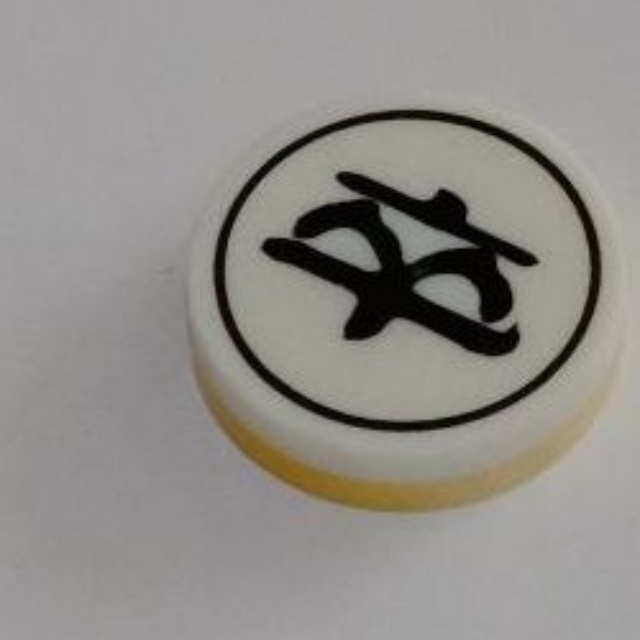black_chot: (175, 84, 640, 533)
